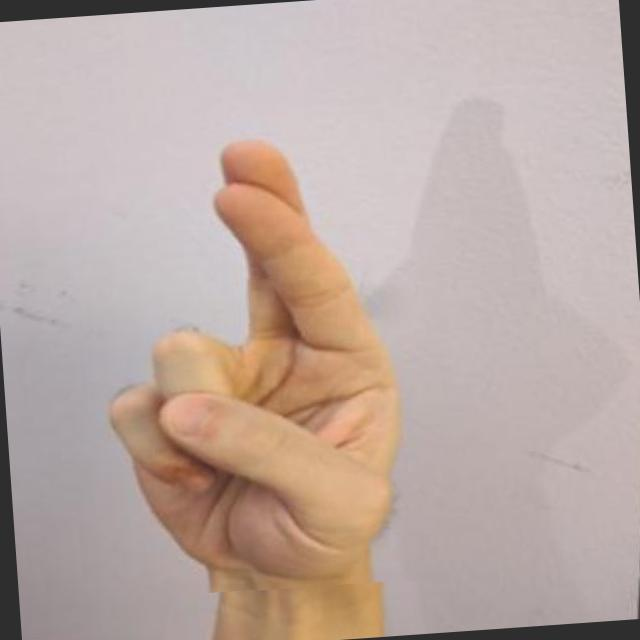R: (70, 108, 468, 602)
